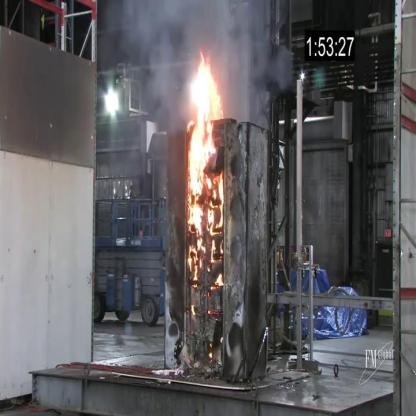fire: (182, 48, 227, 294), (192, 304, 196, 316)
